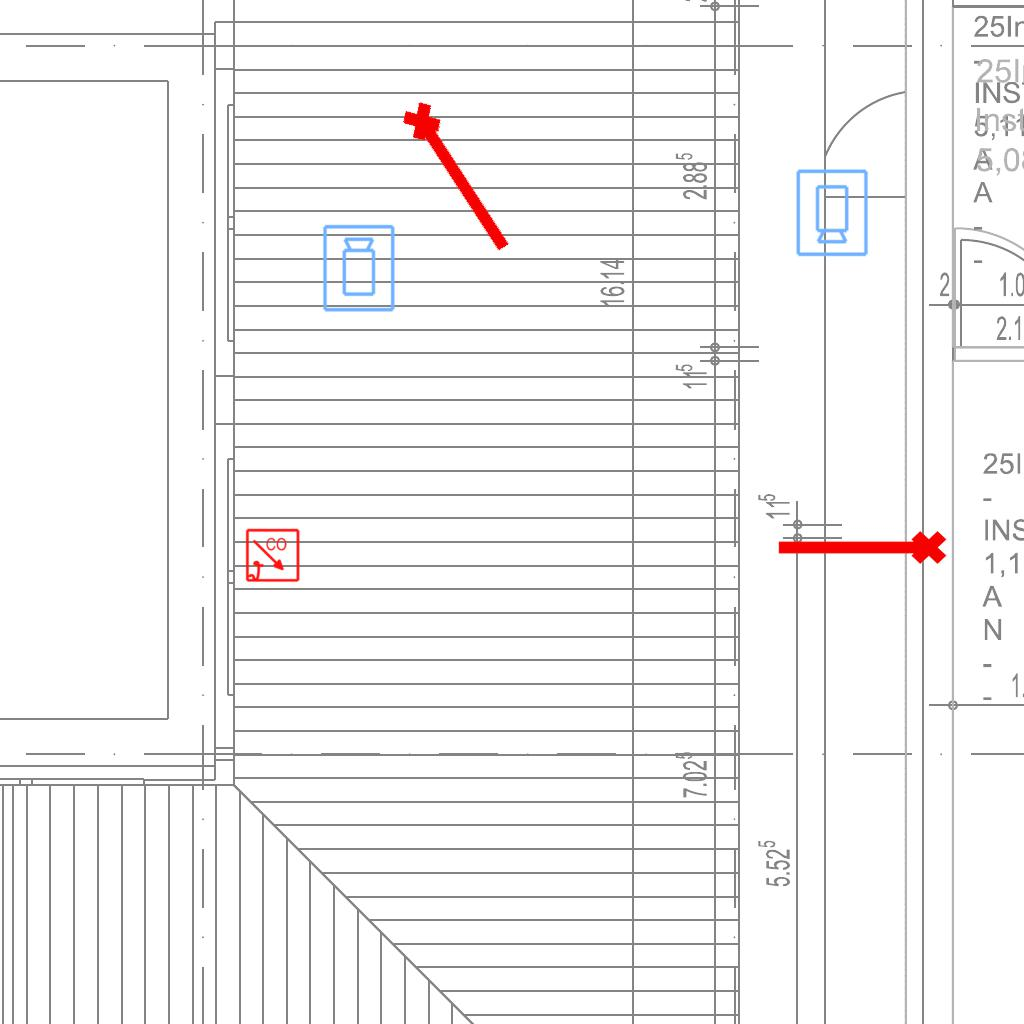ASR_Ansaugoeffnung: (393, 90, 529, 264), (773, 527, 949, 573)
KFO_Kamera_mit_Festobjektiv: (793, 167, 870, 258), (321, 223, 398, 314)
ROA_Rauchmelder_optisch_mit_Signalgeber_(Sockelsirene): (245, 528, 301, 584)
